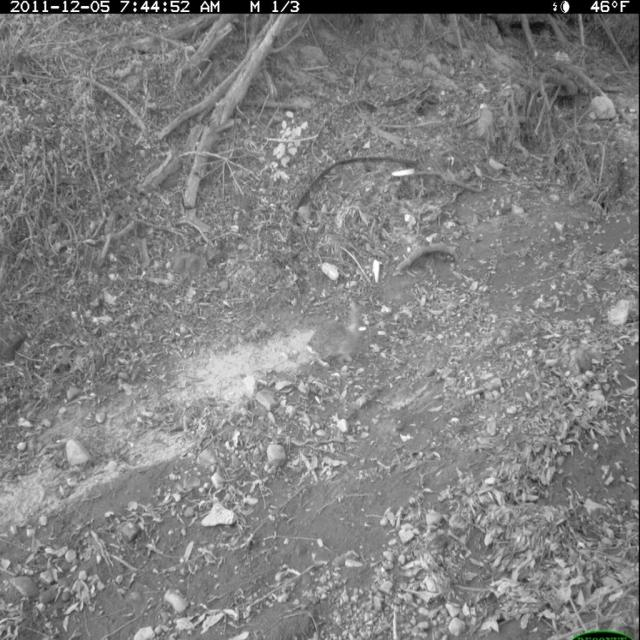rabbit: (306, 298, 373, 375)
